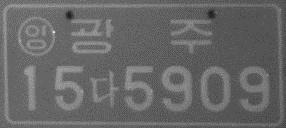0: (198, 65, 231, 113)
1: (17, 64, 47, 112)
5: (54, 64, 85, 111), (123, 64, 154, 111)
9: (160, 64, 193, 112), (238, 64, 271, 112)
광주_D: (69, 17, 215, 55)
다: (89, 68, 120, 108)
영: (17, 16, 57, 58)
